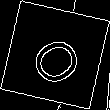O_NE: (22, 23, 88, 87)
